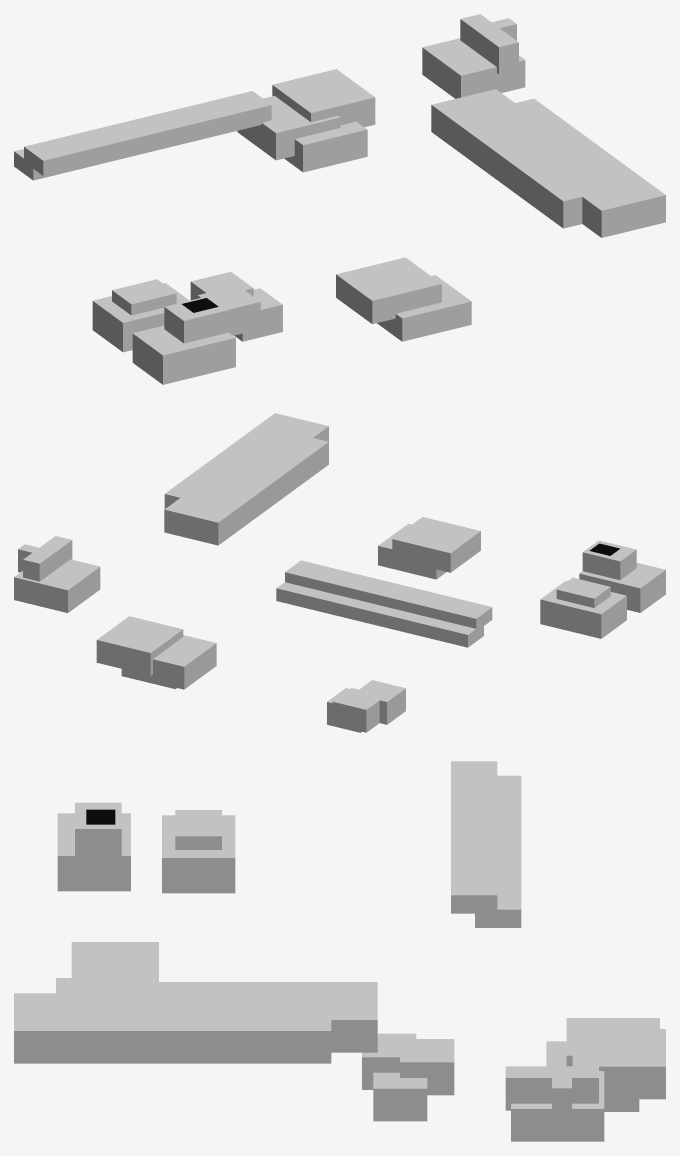
File: GameObject.fbx
3 renders of one model, top to bottom at view 1: azimuth 30°, elevation 25°; view 2: azimuth 150°, elevation 25°; view 3: azimuth 270°, elevation 25°, orthographic. The views are drawn at different scales.
Visible parts, largest first — view 1: BaseFloor (198), BaseFloor (200), BaseFloor (199), BaseFloor (203), BaseFloor (237), BaseFloor (192), BaseFloor (193), BaseFloor (191), BaseFloor (202), BaseFloor (190), BaseFloor (180), BaseFloor (194) (+6 smaller); view 2: BaseFloor (198), BaseFloor (199), BaseFloor (200), BaseFloor (201), BaseFloor (203), BaseFloor (192), BaseFloor (193), BaseFloor (180), BaseFloor (191), BaseFloor (237), BaseFloor (187), BaseFloor (236) (+4 smaller); view 3: BaseFloor (199), BaseFloor (198), BaseFloor (200), BaseFloor (192), BaseFloor (180), BaseFloor (201), BaseFloor (203), BaseFloor (236), BaseFloor (193), BaseFloor (194), BaseFloor (185), BaseFloor (237) (+6 smaller).
Part boxes in pixels (box(x1,y1,x2,y2)): BaseFloor (198): box(431, 89, 627, 228); BaseFloor (200): box(24, 91, 271, 175); BaseFloor (199): box(487, 98, 665, 237); BaseFloor (203): box(336, 257, 441, 324); BaseFloor (237): box(132, 325, 235, 384); BaseFloor (192): box(272, 69, 375, 127); BaseFloor (193): box(422, 38, 525, 98); BaseFloor (191): box(237, 96, 340, 160); BaseFloor (202): box(377, 275, 471, 341); BaseFloor (190): box(284, 121, 367, 172); BaseFloor (180): box(92, 283, 189, 352); BaseFloor (194): box(460, 14, 518, 74); BaseFloor (198): box(164, 429, 328, 545); BaseFloor (199): box(164, 413, 328, 508); BaseFloor (200): box(285, 560, 492, 630); BaseFloor (201): box(276, 582, 483, 647); BaseFloor (203): box(392, 517, 480, 572); BaseFloor (192): box(96, 616, 183, 675); BaseFloor (193): box(14, 559, 100, 612); BaseFloor (180): box(540, 581, 626, 638); BaseFloor (191): box(130, 635, 216, 689); BaseFloor (237): box(579, 562, 665, 612); BaseFloor (187): box(332, 688, 379, 732); BaseFloor (236): box(582, 540, 636, 580); BaseFloor (199): box(14, 993, 331, 1063); BaseFloor (198): box(60, 982, 377, 1052); BaseFloor (200): box(451, 761, 497, 913); BaseFloor (192): box(572, 1029, 665, 1099); BaseFloor (180): box(162, 815, 235, 893); BaseFloor (201): box(475, 775, 521, 927); BaseFloor (203): box(71, 942, 158, 981); BaseFloor (236): box(75, 802, 121, 884); BaseFloor (193): box(511, 1071, 604, 1141); BaseFloor (194): box(505, 1066, 598, 1110); BaseFloor (185): box(373, 1072, 427, 1121); BaseFloor (237): box(57, 813, 130, 891).
Size of the model in its own units: 133 by 44.91 by 111.
